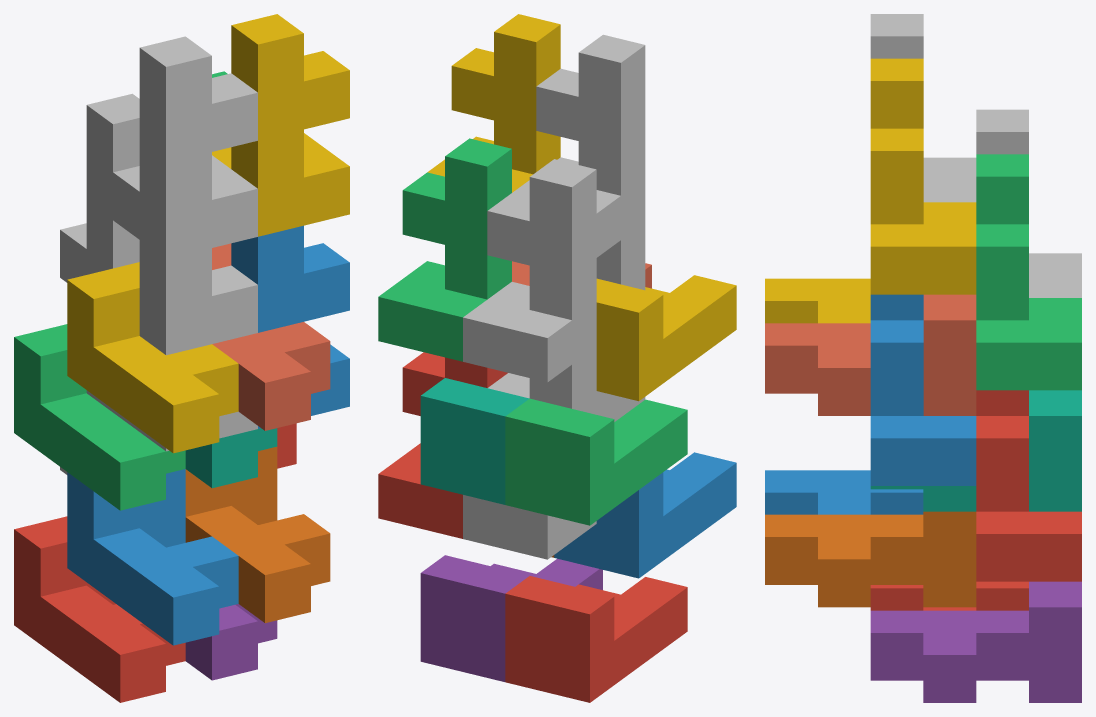
The model's file is tiling.obj.
The picture shows the model from 3 angles, left to right: view 1: azimuth 30°, elevation 25°; view 2: azimuth 150°, elevation 25°; view 3: azimuth 270°, elevation 25°; orthographic projection. The views are drawn at different scales.
Visible parts, largest first — view 1: copy_2_domain_4, copy_2_domain_8, copy_1_domain_4, copy_1_domain_2, copy_1_domain_1, copy_1_domain_3, copy_1_domain_6, copy_2_domain_2, copy_2_domain_6, copy_2_domain_3, copy_1_domain_8, copy_1_domain_5 (+2 smaller); view 2: copy_2_domain_3, copy_2_domain_7, copy_1_domain_1, copy_1_domain_3, copy_2_domain_4, copy_1_domain_4, copy_1_domain_2, copy_2_domain_8, copy_1_domain_5, copy_1_domain_7, copy_2_domain_1, copy_2_domain_5 (+1 smaller); view 3: copy_1_domain_5, copy_2_domain_8, copy_1_domain_6, copy_2_domain_7, copy_1_domain_8, copy_2_domain_6, copy_2_domain_5, copy_1_domain_7, copy_1_domain_2, copy_2_domain_4, copy_1_domain_4, copy_2_domain_3 (+1 smaller).
Boxes of the visible parts, x1,y1,x2,y2 form: copy_2_domain_4: (113,36,257,259); copy_2_domain_8: (212,14,349,236); copy_1_domain_4: (67,262,238,453); copy_1_domain_2: (67,469,238,645); copy_1_domain_1: (14,516,185,702); copy_1_domain_3: (14,324,185,510); copy_1_domain_6: (185,446,330,623); copy_2_domain_2: (113,240,257,451); copy_2_domain_6: (231,225,349,428); copy_2_domain_3: (60,93,139,282); copy_1_domain_8: (212,243,330,430); copy_1_domain_5: (185,604,277,680); copy_2_domain_3: (463,159,596,382); copy_2_domain_7: (378,138,511,361); copy_1_domain_1: (505,576,687,702); copy_1_domain_3: (505,398,687,525); copy_2_domain_4: (512,34,645,257); copy_1_domain_4: (596,275,736,401); copy_1_domain_2: (554,452,736,578); copy_2_domain_8: (427,14,560,192); copy_1_domain_5: (420,555,602,681); copy_1_domain_7: (420,378,529,504); copy_2_domain_1: (463,347,596,559); copy_2_domain_5: (378,352,507,538); copy_1_domain_5: (870,581,1081,702); copy_2_domain_8: (870,58,976,294); copy_1_domain_6: (765,511,976,607); copy_2_domain_7: (976,154,1081,390); copy_1_domain_8: (765,294,976,415); copy_2_domain_6: (870,294,976,485); copy_2_domain_5: (976,390,1081,581); copy_1_domain_7: (870,390,1081,511); copy_1_domain_2: (765,470,923,514); copy_2_domain_4: (870,14,976,202); copy_1_domain_4: (765,278,870,323); copy_2_domain_3: (976,109,1081,297).
Bounding box in the file's own units: 5 × 13 × 6.
